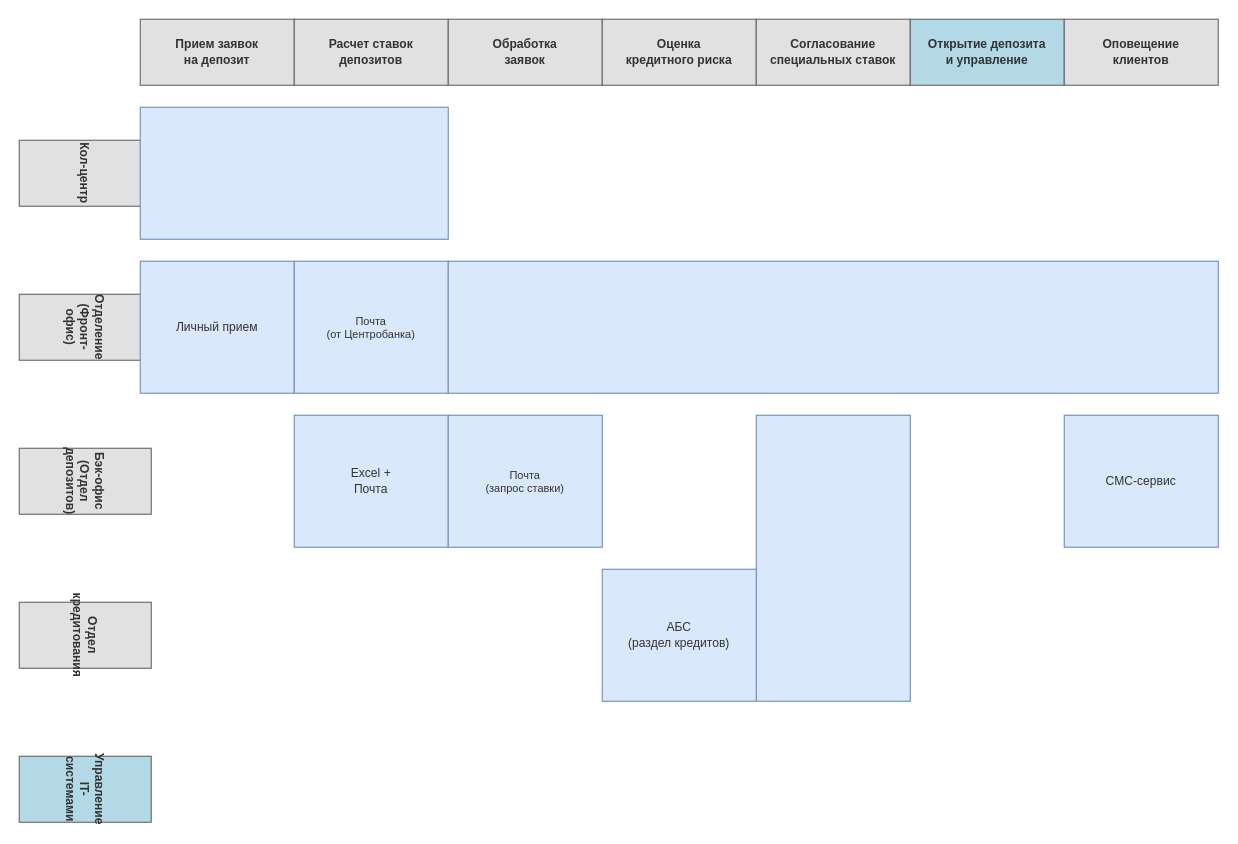
The diagram is 1238 pixels wide and 844 high, and some of its shapes have lost their labels. The box of each missing label's shape, as (x1, y1, x2, y2) in pixels:
АБС: (447, 260, 1218, 393)
Почта: (755, 414, 910, 701)
Система кол-центра: (139, 106, 448, 239)
